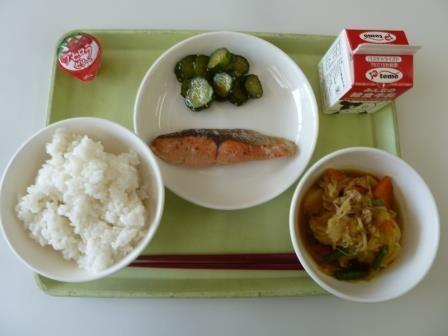Cup desserts: (55, 35, 85, 65)
Fish: (162, 121, 294, 175)
Milk: (310, 21, 411, 123)
Rice: (15, 136, 160, 290)
Soups: (296, 153, 425, 283)
pickled cucumber: (159, 51, 266, 113)
